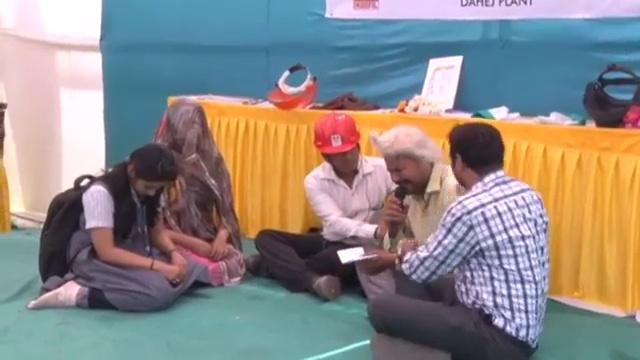helmet: (309, 111, 360, 155)
helmet_off: (441, 119, 508, 196), (381, 127, 440, 202), (118, 142, 178, 207), (160, 103, 212, 161)
helmet_on: (310, 114, 365, 184)
person: (363, 120, 557, 360), (26, 145, 215, 316), (253, 111, 392, 295), (149, 92, 244, 283), (351, 128, 461, 292)
